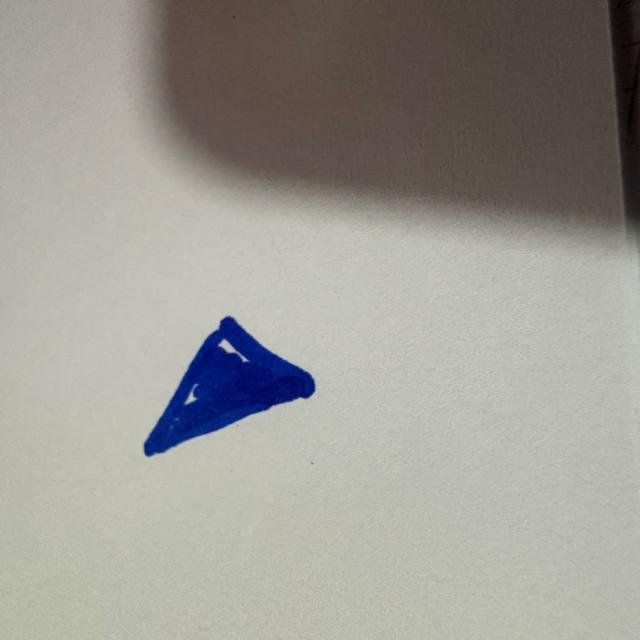Triangle: (143, 318, 315, 456)
